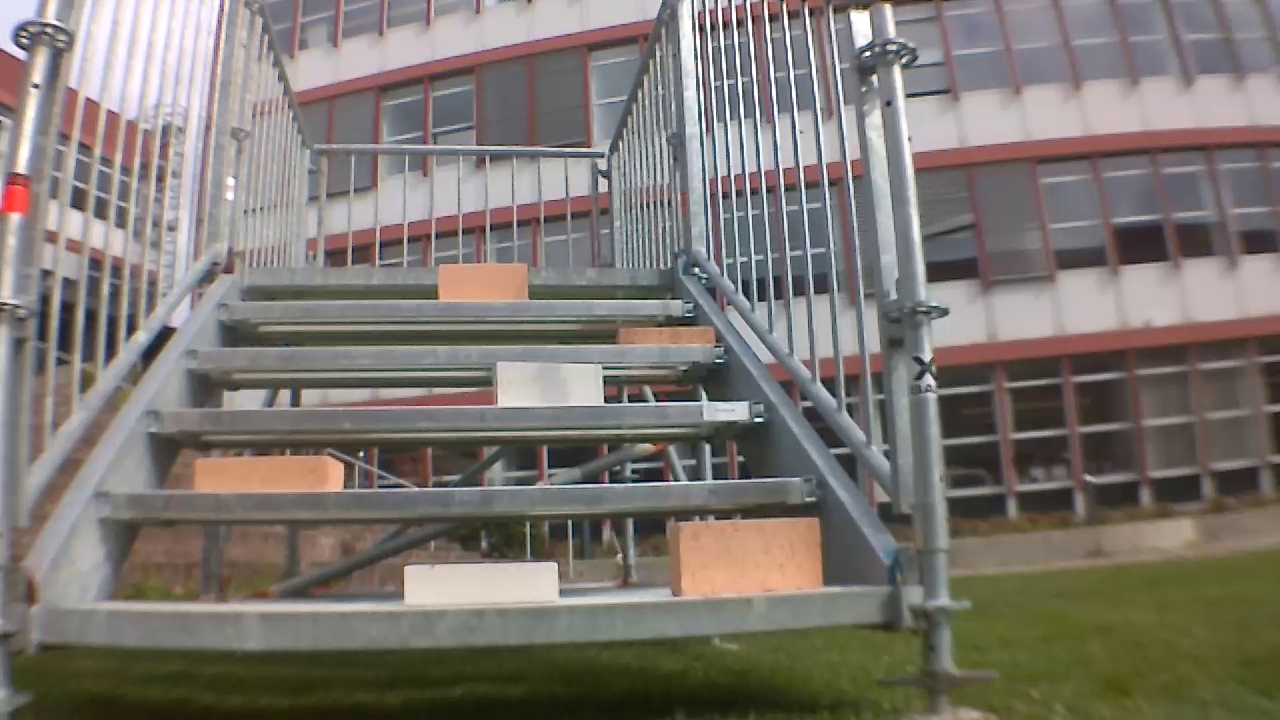brick: (666, 519, 824, 601), (395, 564, 563, 611), (195, 453, 345, 494), (497, 365, 605, 406), (437, 263, 529, 300), (616, 324, 720, 346)
edge: (40, 584, 898, 653), (97, 476, 829, 525), (145, 394, 772, 440), (216, 298, 693, 329), (186, 345, 727, 371), (236, 267, 670, 285)
stairs: (0, 0, 964, 684)
steps: (30, 263, 892, 653)
